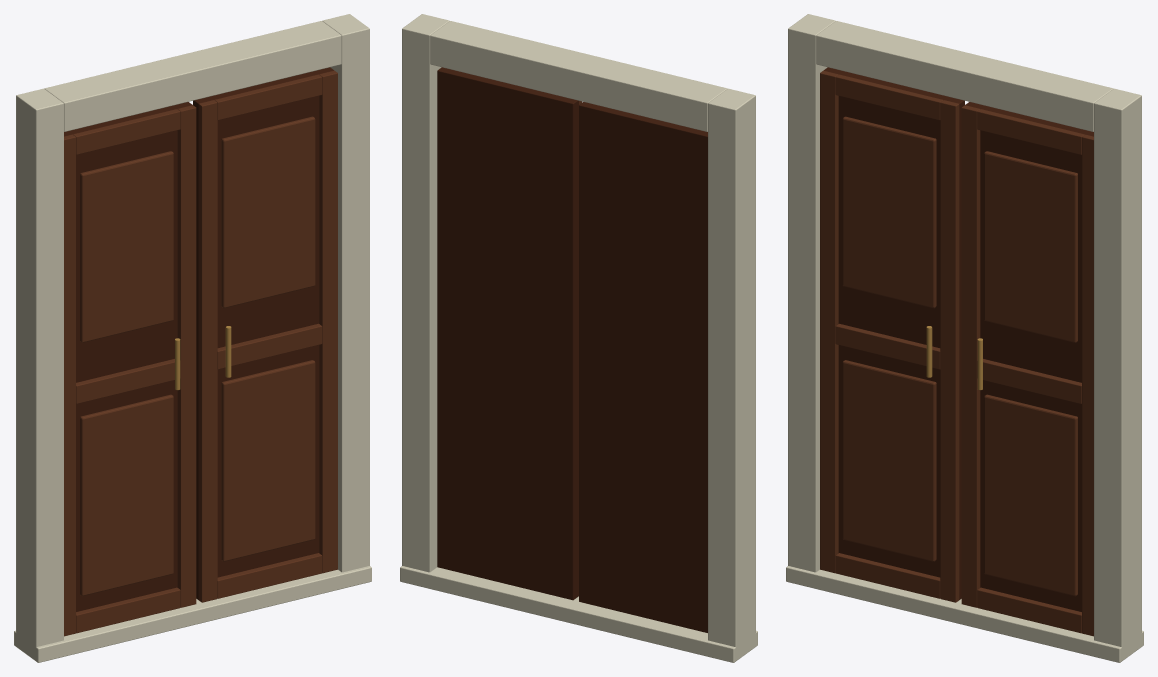
3 views of the same model, side by side, from view 1: azimuth 30°, elevation 25°; view 2: azimuth 150°, elevation 25°; view 3: azimuth 330°, elevation 25° (orthographic).
Parts seen in each view (by area): view 1: DOOR_Jamb, DOOR_Jamb.001, Right_RaisedPanel, Left_RaisedPanel, Right_RaisedPanel.001, Left_RaisedPanel.001, Right_Core, DOOR_Header, Left_Core, Right_Stile.001, Left_Stile.001, Right_Stile (+8 smaller); view 2: Right_Core, Left_Core, DOOR_Jamb, DOOR_Jamb.001, DOOR_Header, DOOR_Sill; view 3: DOOR_Jamb.001, DOOR_Jamb, Left_RaisedPanel, Right_RaisedPanel, Left_RaisedPanel.001, Right_RaisedPanel.001, Left_Core, DOOR_Header, Right_Core, Left_Stile.001, Right_Stile.001, Left_Stile (+8 smaller).
Part boxes in pixels (box(x1,y1,x2,y2)): DOOR_Jamb: box(16, 88, 63, 660); DOOR_Jamb.001: box(322, 14, 369, 572); Right_RaisedPanel: box(221, 360, 315, 561); Left_RaisedPanel: box(80, 394, 173, 596); Right_RaisedPanel.001: box(221, 116, 315, 308); Left_RaisedPanel.001: box(80, 151, 173, 342); Right_Core: box(193, 67, 333, 599); DOOR_Header: box(44, 21, 341, 131); Left_Core: box(64, 102, 192, 611); Right_Stile.001: box(198, 100, 217, 602); Left_Stile.001: box(177, 105, 196, 607); Right_Stile: box(319, 70, 337, 573); Right_Core: box(437, 67, 578, 600); Left_Core: box(579, 102, 707, 632); DOOR_Jamb: box(708, 88, 755, 660); DOOR_Jamb.001: box(402, 14, 449, 572); DOOR_Header: box(430, 21, 727, 131); DOOR_Sill: box(400, 566, 757, 662); DOOR_Jamb.001: box(1094, 88, 1141, 660); DOOR_Jamb: box(788, 14, 835, 572); Left_RaisedPanel: box(842, 360, 936, 561); Right_RaisedPanel: box(984, 394, 1077, 596); Left_RaisedPanel.001: box(842, 116, 936, 308); Right_RaisedPanel.001: box(984, 151, 1077, 342); Left_Core: box(824, 67, 964, 599); DOOR_Header: box(816, 21, 1113, 131); Right_Core: box(965, 102, 1093, 611); Left_Stile.001: box(940, 100, 959, 602); Right_Stile.001: box(961, 105, 980, 607); Left_Stile: box(820, 70, 838, 573).
Size of the model in its own units: 1.9 by 3 by 0.24.
